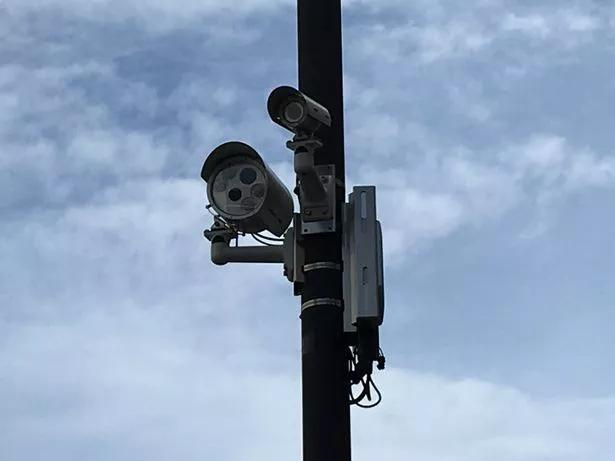Monitor: (184, 134, 298, 257), (260, 70, 355, 170)
